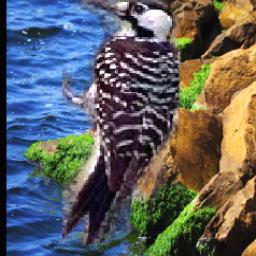Woodpecker: (63, 0, 181, 246)
